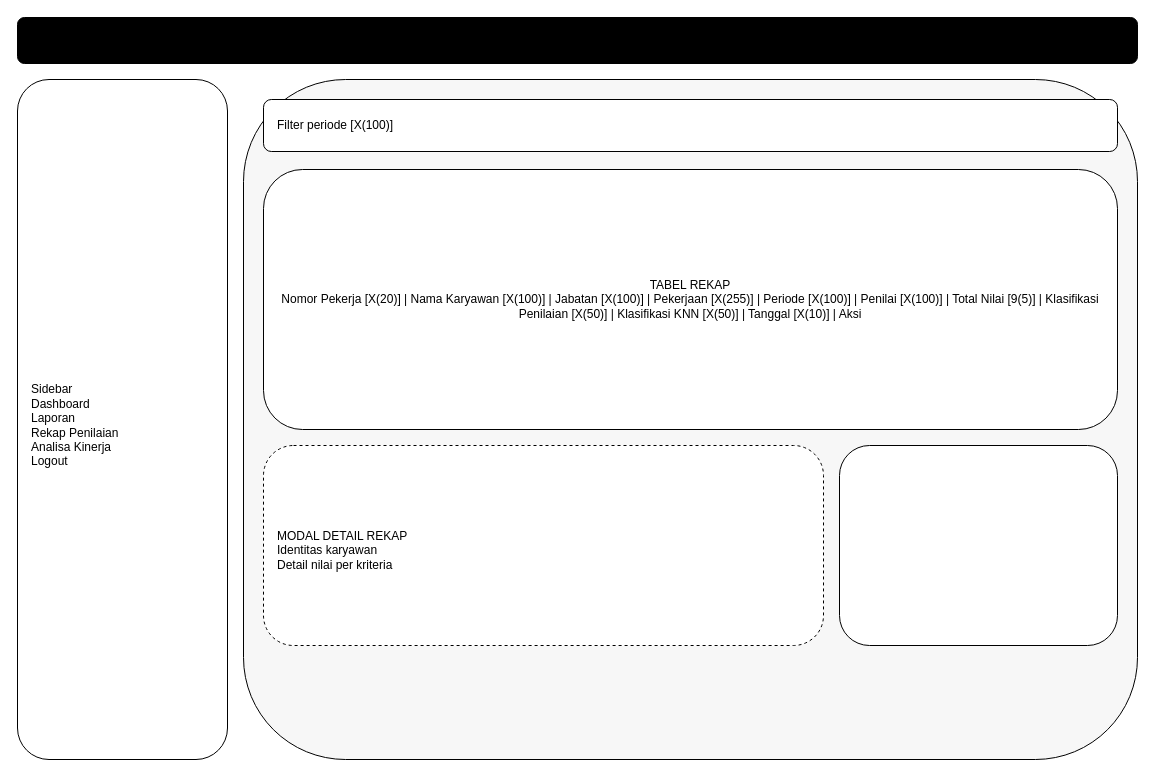
Some shapes in this 1155 by 777 pixel diagram are drawn without their labels. The box of each missing label's shape, as (x1, y1, x2, y2) in pixels:
Tombol: Detail: (838, 444, 1118, 646)
TOPBAR - Rekap Penilaian: (16, 16, 1138, 64)
